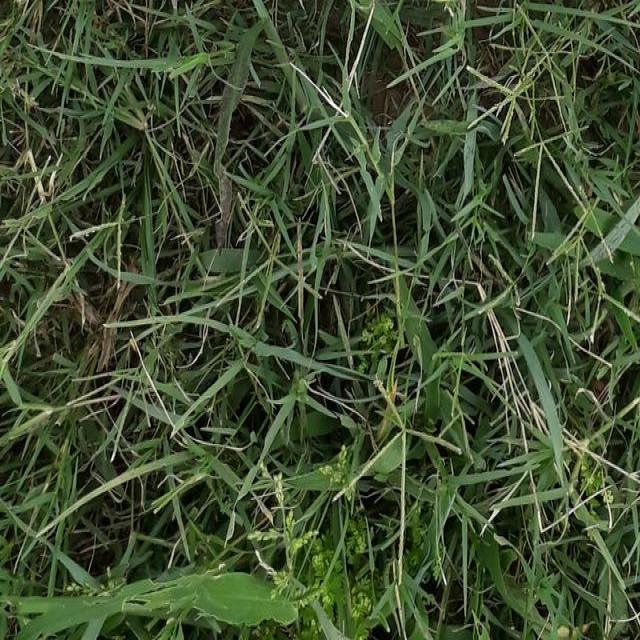weed: (106, 34, 448, 474), (416, 34, 640, 619), (58, 483, 384, 640)
